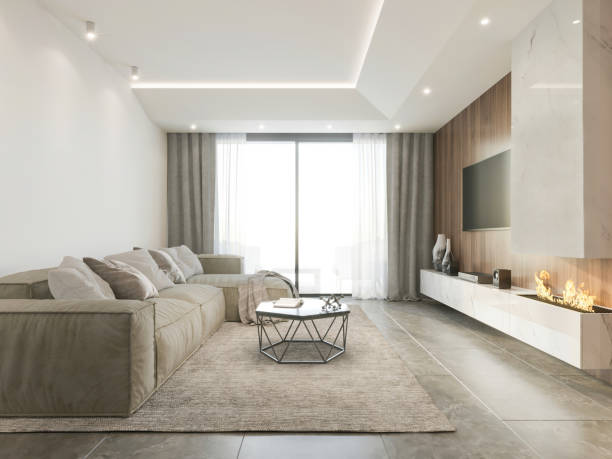TV: (461, 148, 509, 231)
TV stand: (417, 266, 611, 373)
sofa: (0, 243, 293, 418)
table: (252, 295, 351, 366)
